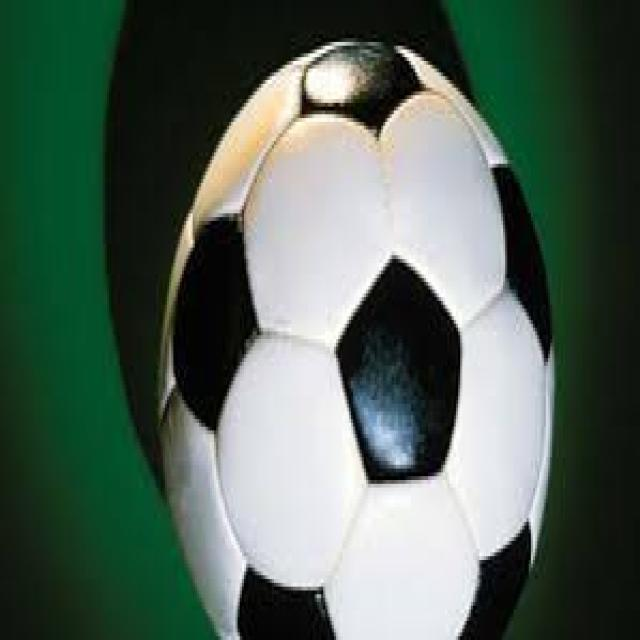ball: (156, 43, 554, 640)
